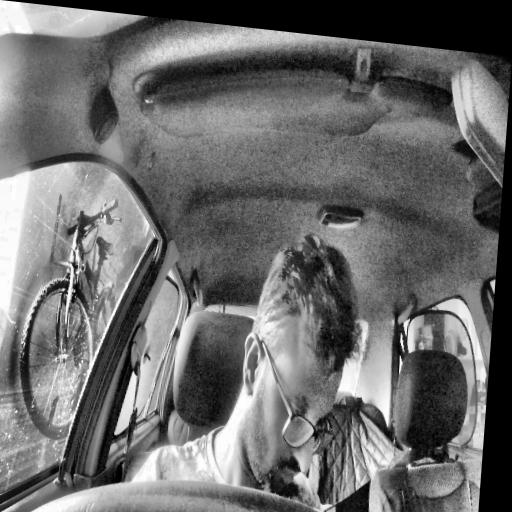awake: (230, 227, 371, 512)
